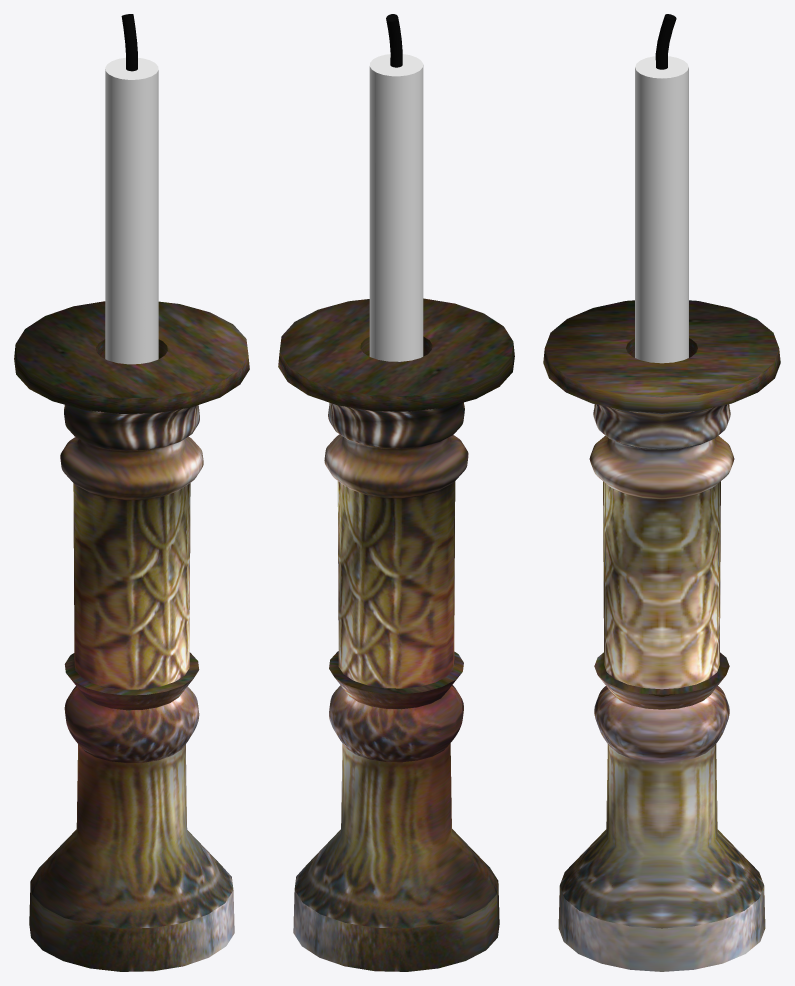
The model's file is Candle Holder.FBX.
The picture shows the model from 3 angles, left to right: view 1: azimuth 30°, elevation 25°; view 2: azimuth 150°, elevation 25°; view 3: azimuth 270°, elevation 25°; orthographic projection.
Parts seen in each view (by area): view 1: Line01; view 2: Line01; view 3: Line01.
Boxes of the visible parts, x1,y1,x2,y2 form: Line01: [14, 14, 249, 971]; Line01: [278, 14, 514, 971]; Line01: [543, 14, 780, 971].
Size of the model in its own units: 60.06 by 255 by 60.06.
